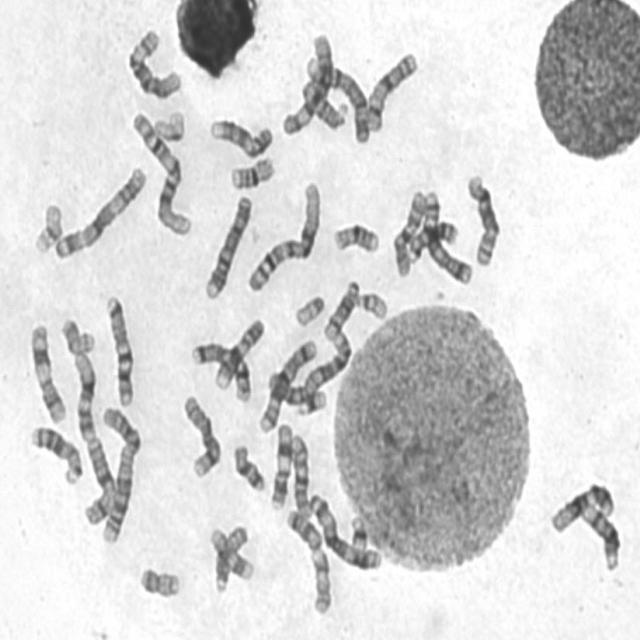A1: (243, 177, 323, 296), (128, 107, 194, 239)
A2: (265, 327, 355, 417), (94, 402, 144, 546)
A3: (50, 160, 148, 262), (305, 488, 384, 572)
B4: (302, 54, 372, 145), (200, 189, 254, 302)
B5: (255, 333, 319, 435), (420, 186, 474, 287)
C10: (388, 185, 428, 278), (288, 430, 314, 521)
C11: (27, 318, 68, 426), (267, 418, 294, 512)
C12: (548, 477, 616, 535), (73, 346, 106, 451)
C6: (279, 28, 335, 138), (124, 23, 184, 102)
C7: (101, 290, 136, 409), (188, 338, 252, 403)
C8: (178, 390, 223, 480), (462, 169, 502, 268)
C9: (212, 314, 266, 391), (206, 114, 275, 160)
D13: (27, 421, 85, 486), (404, 215, 460, 264)
D14: (578, 498, 622, 573), (321, 274, 361, 342)
D15: (215, 521, 253, 600), (299, 76, 350, 131)
E16: (227, 152, 277, 192), (329, 218, 382, 255)
E17: (208, 522, 254, 586), (307, 541, 336, 617)
E18: (285, 501, 328, 553), (229, 439, 267, 494)
F19: (30, 198, 64, 256), (150, 105, 187, 143)
F20: (135, 562, 182, 600), (58, 312, 97, 356)
G21: (293, 385, 328, 418), (346, 511, 370, 553)
G22: (291, 290, 326, 328), (354, 287, 389, 321)
X: (363, 46, 419, 134), (76, 432, 118, 534)
